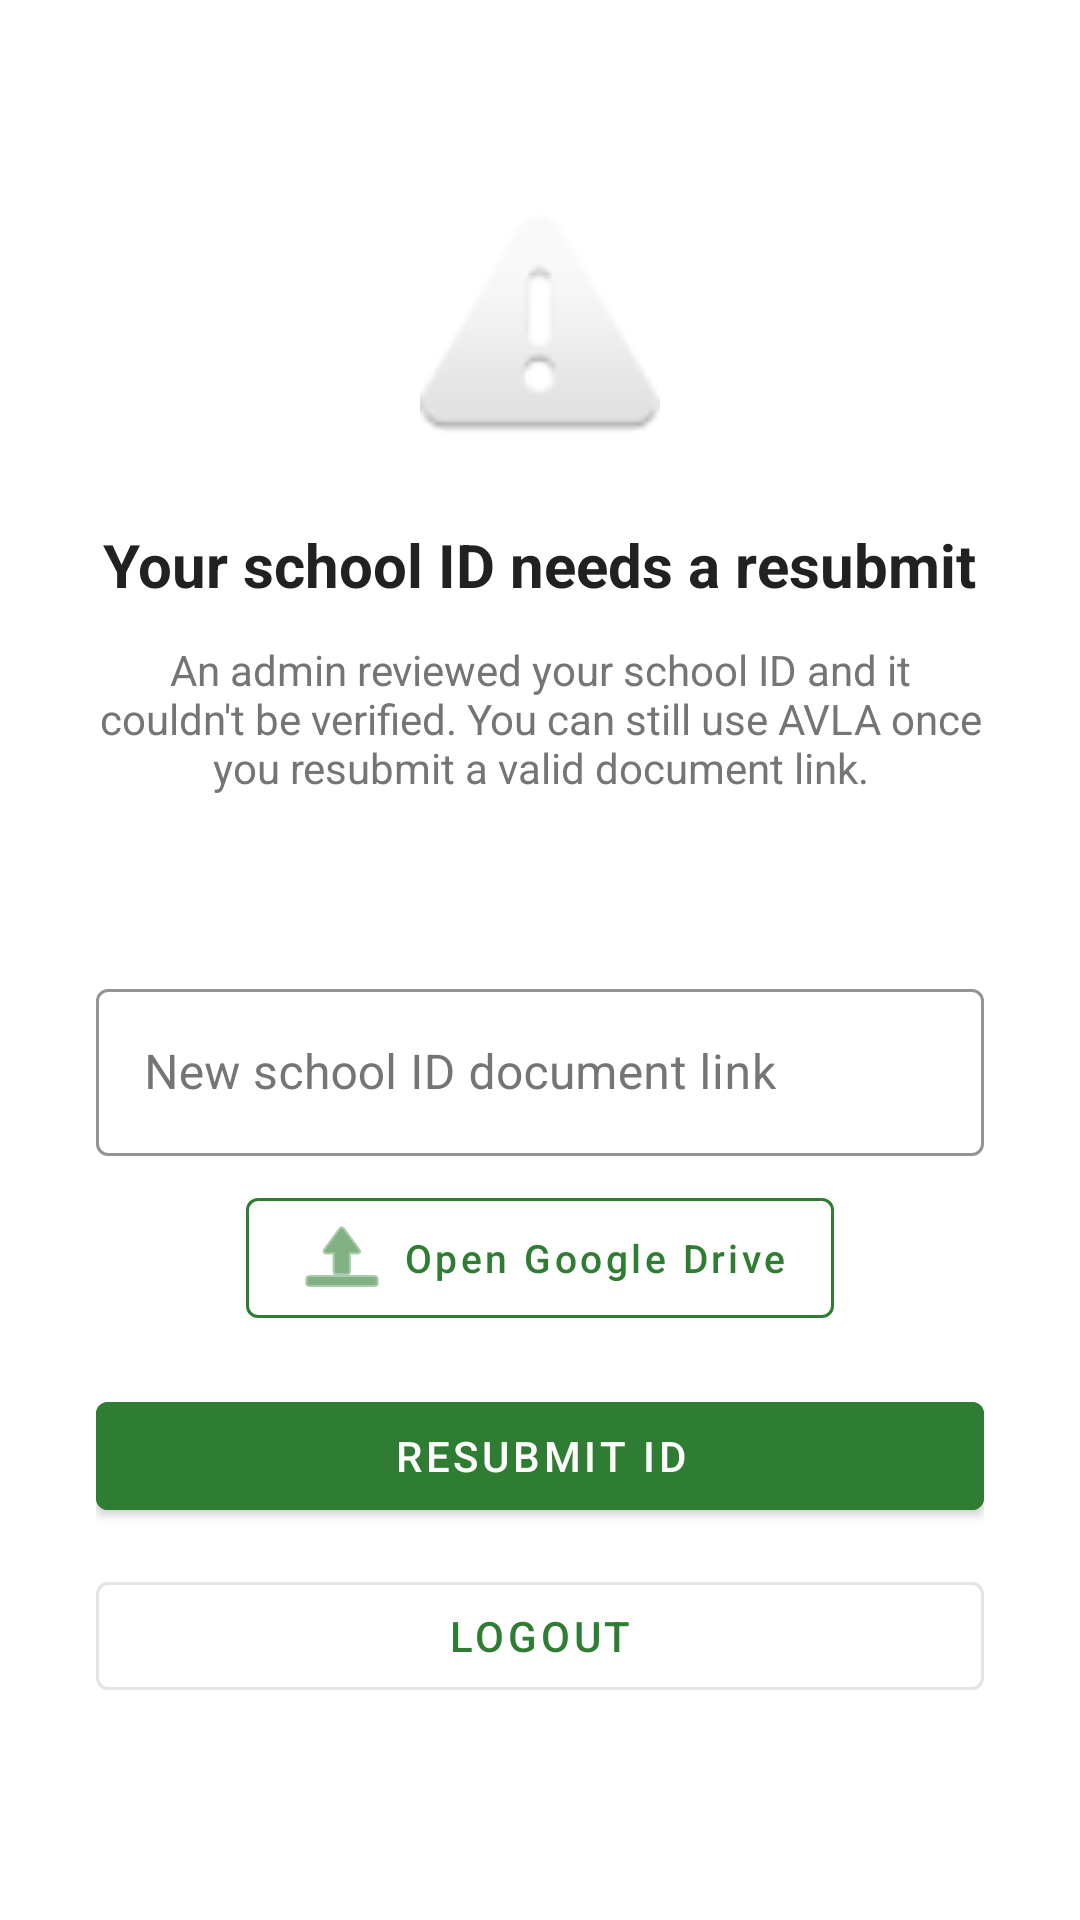

Icons on this 1080×1920 Android screen, each with the point to tap as (x=x, y=y):
ID flagged icon: (x=540, y=348)
